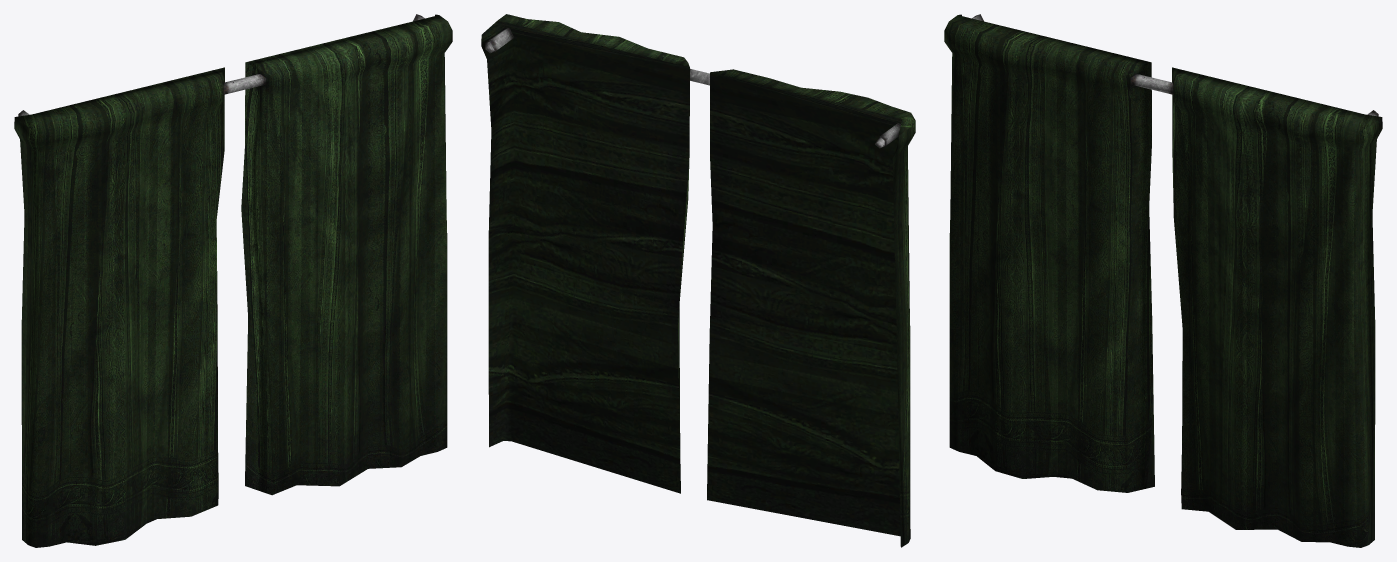
Rendered from curtain03_closed.DAE.
The picture shows the model from 3 angles, left to right: view 1: azimuth 30°, elevation 25°; view 2: azimuth 150°, elevation 25°; view 3: azimuth 330°, elevation 25°; orthographic projection.
Parts seen in each view (by area): view 1: curtain03_closed; view 2: curtain03_closed; view 3: curtain03_closed.
Part boxes in pixels (x1,y1,x2,y2): curtain03_closed: (14,14,452,547); curtain03_closed: (481,14,915,547); curtain03_closed: (944,14,1382,547).
Bounding box in the file's own units: 3.74 × 3.68 × 0.508.
